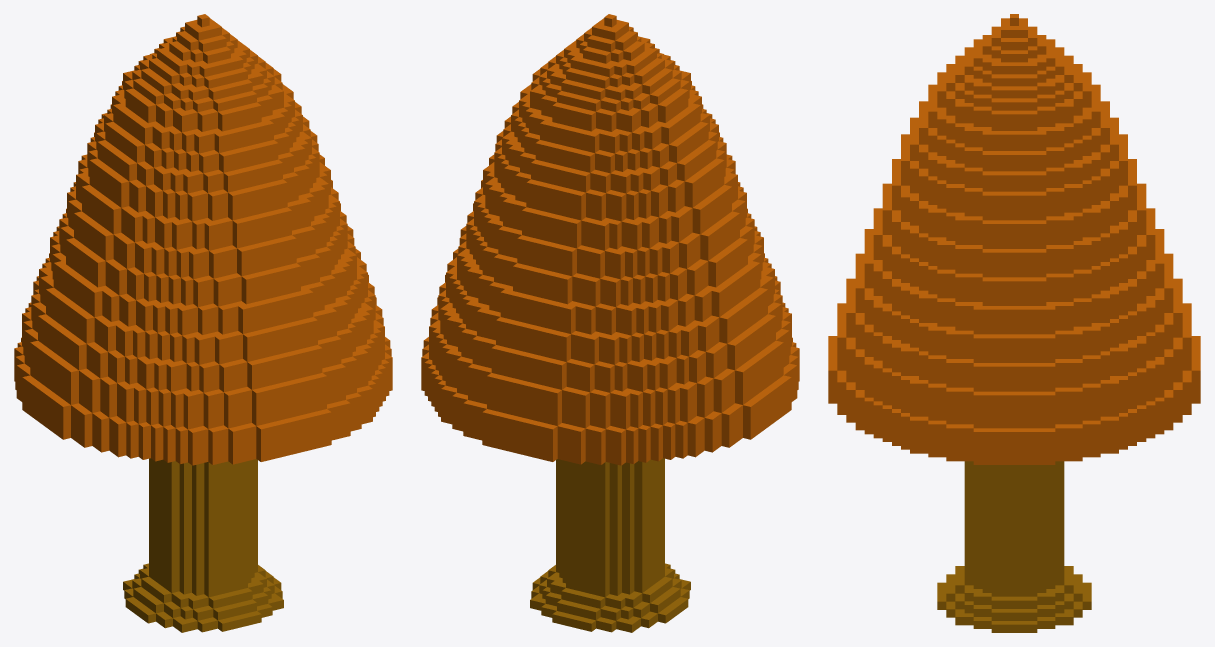
File: Autumn Tree03-1.fbx
3 views of the same model, side by side, from view 1: azimuth 30°, elevation 25°; view 2: azimuth 150°, elevation 25°; view 3: azimuth 270°, elevation 25° (orthographic).
Parts seen in each view (by area): view 1: Tree03-1, Tree01-Stem, Tree01-Root; view 2: Tree03-1, Tree01-Stem, Tree01-Root; view 3: Tree03-1, Tree01-Stem, Tree01-Root.
Boxes of the visible parts, x1=… form: Tree03-1: x1=14, y1=14, x2=392, y2=465; Tree01-Stem: x1=149, y1=458, x2=257, y2=597; Tree01-Root: x1=123, y1=563, x2=283, y2=632; Tree03-1: x1=421, y1=14, x2=799, y2=465; Tree01-Stem: x1=556, y1=458, x2=664, y2=597; Tree01-Root: x1=530, y1=563, x2=690, y2=632; Tree03-1: x1=828, y1=14, x2=1200, y2=464; Tree01-Stem: x1=964, y1=461, x2=1064, y2=596; Tree01-Root: x1=937, y1=566, x2=1091, y2=632.
Size of the model in its own units: 410 by 710 by 410.
